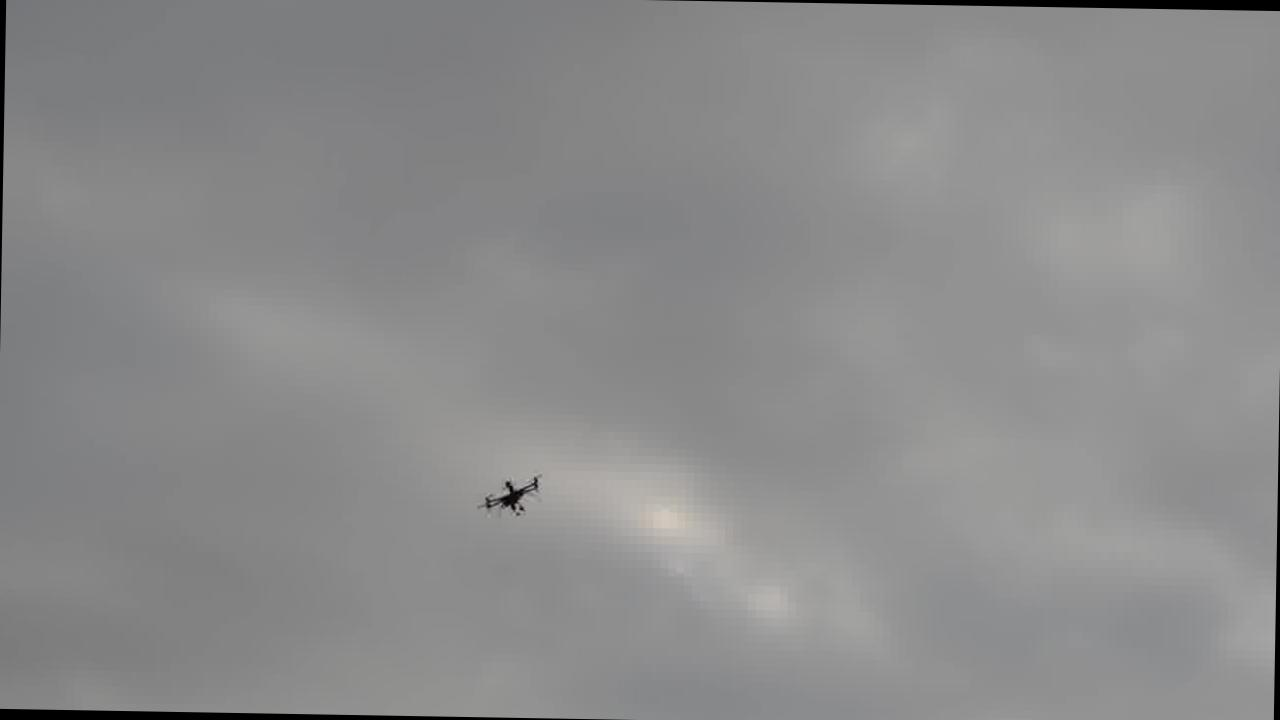drone: (476, 468, 546, 522)
